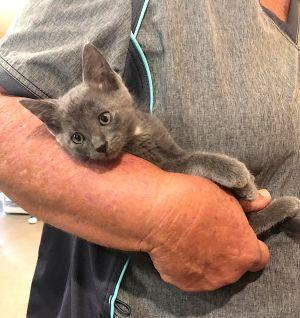rblue: (19, 33, 151, 182)
